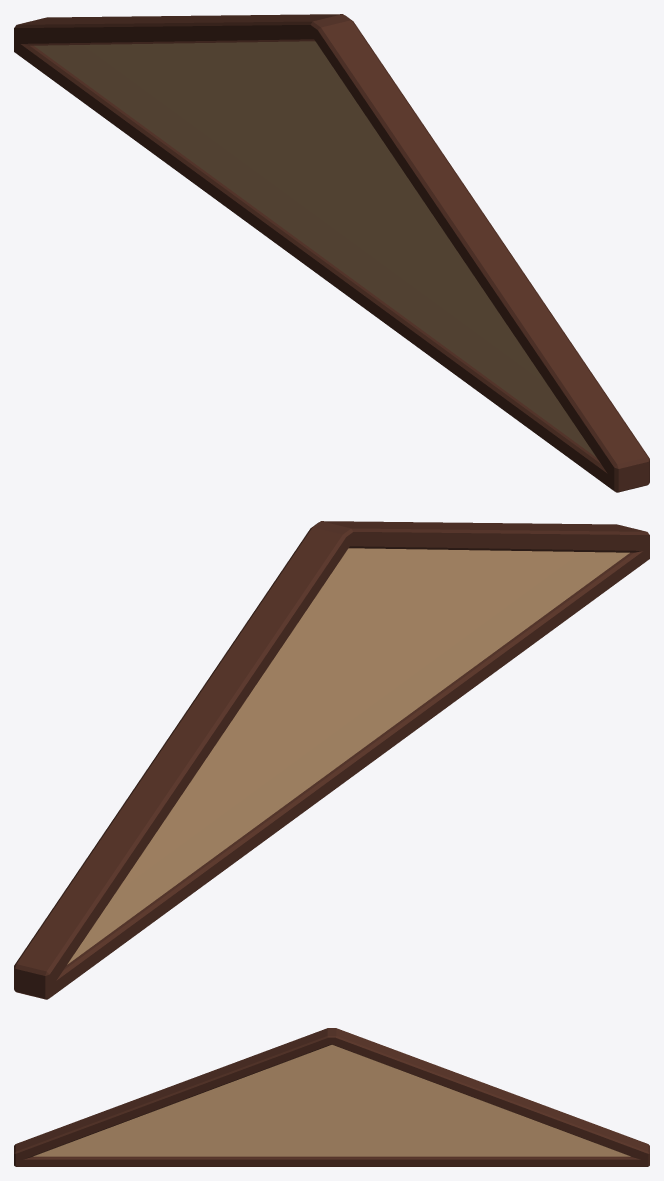
File: Sign E.glb
3 renders of one model, top to bottom at view 1: azimuth 30°, elevation 25°; view 2: azimuth 150°, elevation 25°; view 3: azimuth 270°, elevation 25°, orthographic. The views are drawn at different scales.
Parts seen in each view (by area): view 1: Sign E; view 2: Sign E; view 3: Sign E.
Part boxes in pixels (x1,y1,x2,y2): Sign E: (14,14,649,492); Sign E: (14,521,649,999); Sign E: (14,1028,649,1166).
Size of the model in its own units: 22.6 by 150 by 660.
